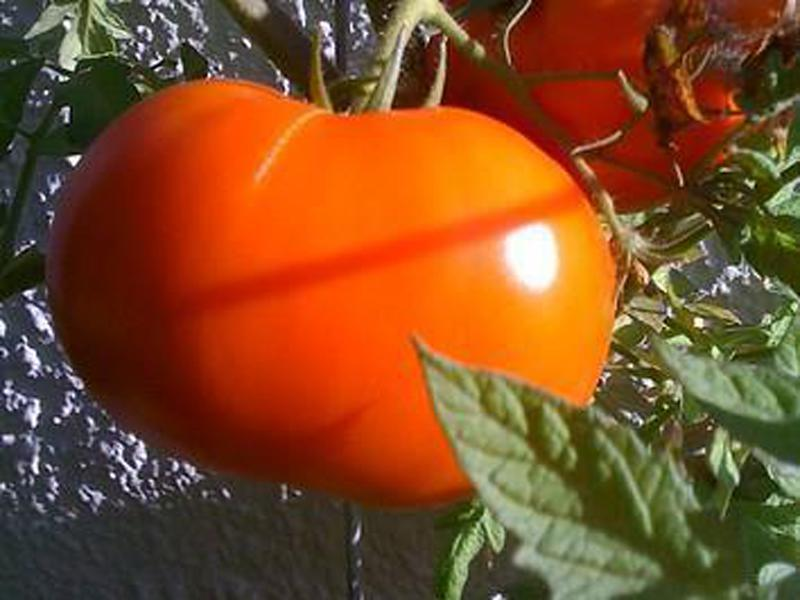Tomato: (47, 77, 617, 505)
